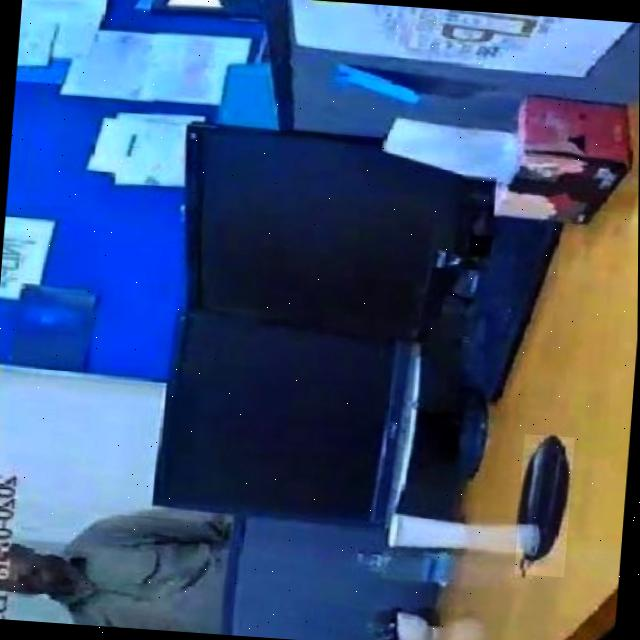spillage: (518, 436, 573, 572)
